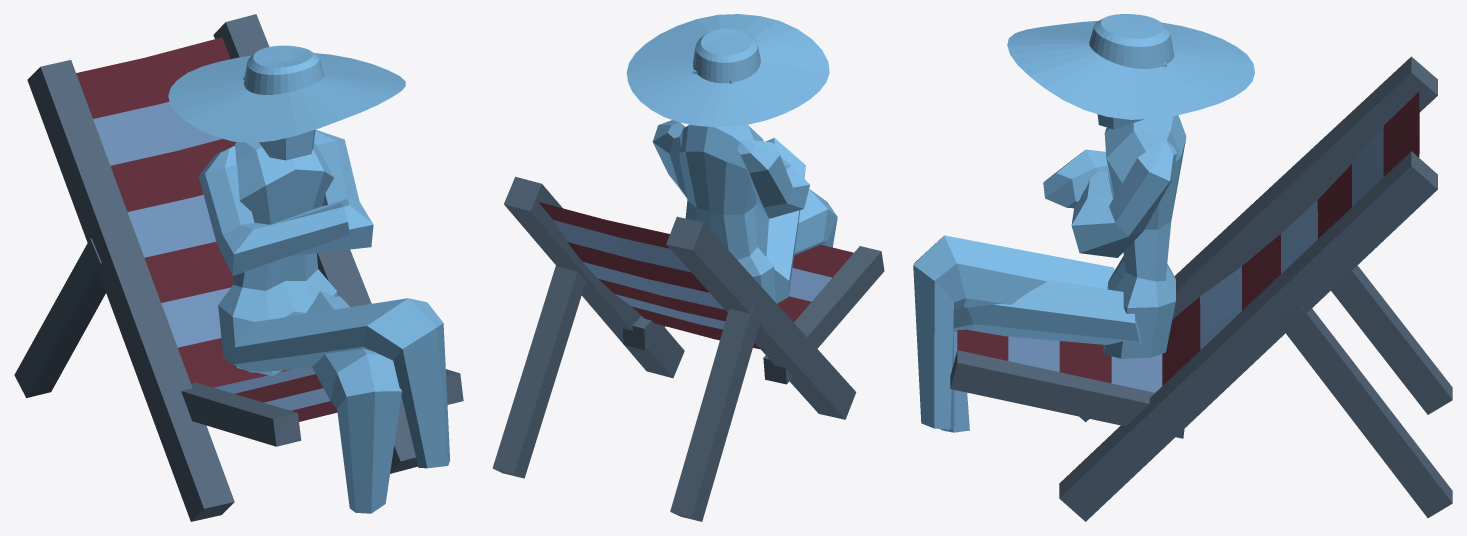
Rendered from Lady.fbx.
3 renders of one model, left to right at view 1: azimuth 30°, elevation 25°; view 2: azimuth 150°, elevation 25°; view 3: azimuth 270°, elevation 25°, orthographic. The views are drawn at different scales.
Parts seen in each view (by area): view 1: Chair.002, Chair.003, Circle, Chair.004; view 2: Chair.002, Circle, Chair.004, Chair.003; view 3: Chair.002, Chair.003, Circle, Chair.004.
Boxes of the visible parts, box(x1,y1,x2,y2) form: Chair.002: box(14, 14, 463, 521); Chair.003: box(233, 291, 449, 513); Circle: box(168, 45, 405, 142); Chair.004: box(198, 129, 373, 275); Chair.002: box(492, 70, 884, 521); Circle: box(626, 14, 829, 127); Chair.004: box(652, 120, 809, 218); Chair.003: box(754, 138, 837, 303); Chair.002: box(950, 56, 1452, 521); Chair.003: box(913, 235, 1141, 432); Circle: box(1007, 14, 1254, 119); Chair.004: box(1043, 139, 1176, 257).
Bounding box in the file's own units: 108 × 192 × 212.
